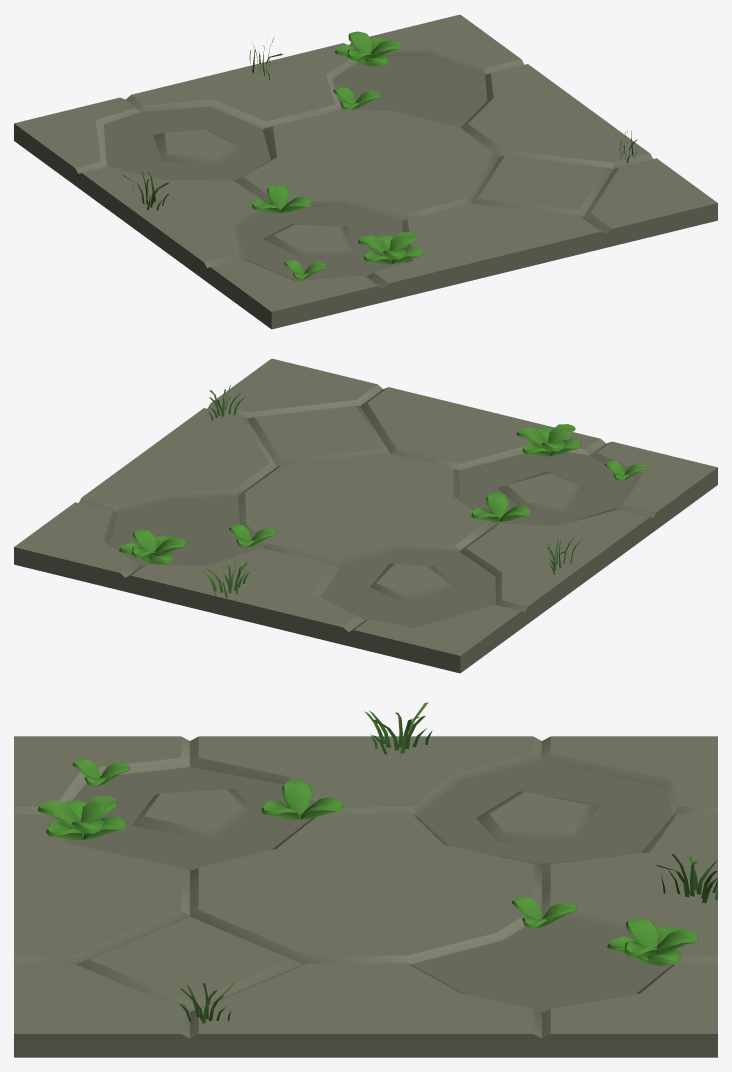
File: floor_b.fbx
3 views of the same model, one above another, from view 1: azimuth 30°, elevation 25°; view 2: azimuth 150°, elevation 25°; view 3: azimuth 270°, elevation 25° (orthographic). The views are drawn at different scales.
Visible parts, largest first — view 1: floor_b; view 2: floor_b; view 3: floor_b.
Part boxes in pixels (left/top/right/bottom): floor_b: left=14, top=14, right=717, bottom=329; floor_b: left=14, top=358, right=717, bottom=673; floor_b: left=14, top=702, right=717, bottom=1057.
Size of the model in its own units: 4 by 0.37 by 4.
